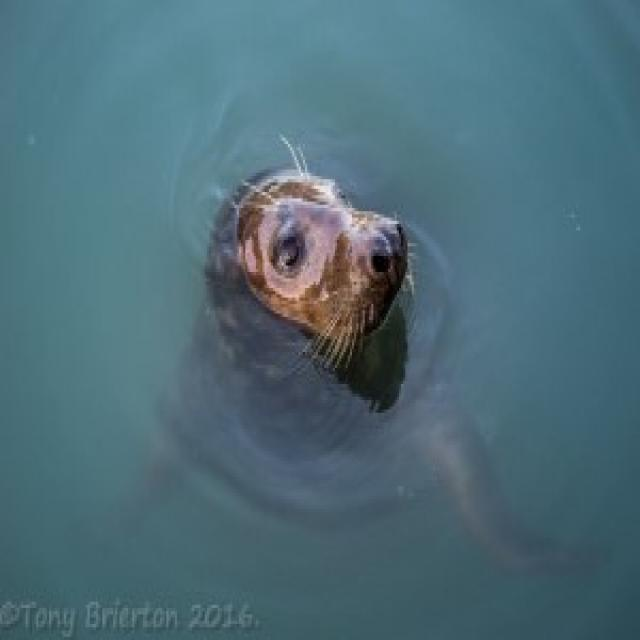Seal: (174, 144, 486, 570)
